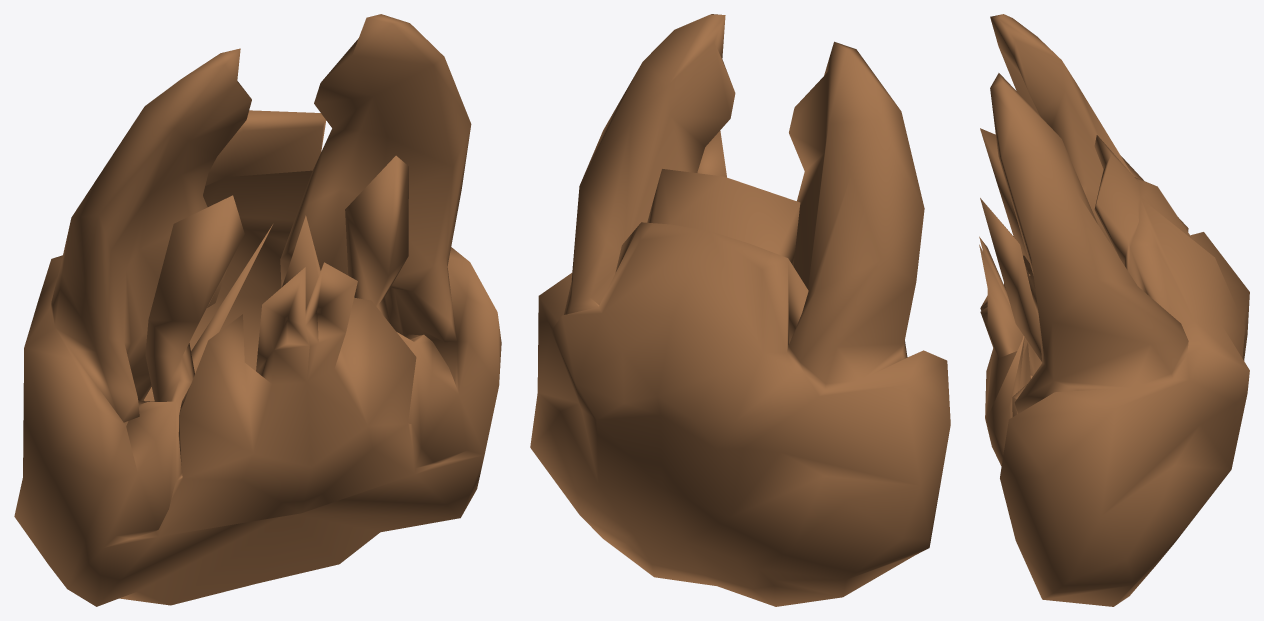
The model's file is Beetlesnatch.fbx.
3 views of the same model, side by side, from view 1: azimuth 30°, elevation 25°; view 2: azimuth 150°, elevation 25°; view 3: azimuth 270°, elevation 25° (orthographic). The views are drawn at different scales.
Visible parts, largest first — view 1: Beetlesnatch - MAVG; view 2: Beetlesnatch - MAVG; view 3: Beetlesnatch - MAVG.
Boxes of the visible parts, bbox=[...] form: Beetlesnatch - MAVG: bbox=[14, 14, 501, 606]; Beetlesnatch - MAVG: bbox=[530, 14, 950, 606]; Beetlesnatch - MAVG: bbox=[979, 14, 1249, 606].
Bounding box in the file's own units: 76.73 × 97.47 × 45.98.
